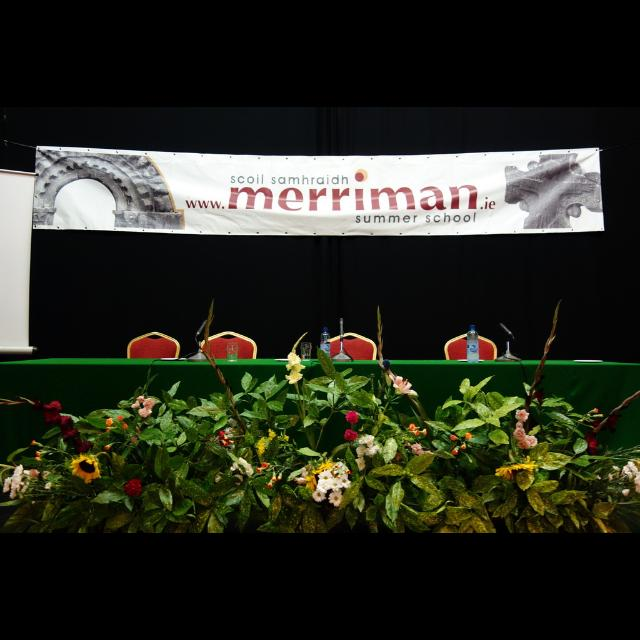Flower: (515, 408, 539, 450), (70, 451, 100, 483), (256, 429, 288, 457), (320, 462, 350, 490), (4, 464, 26, 501), (388, 374, 420, 396), (286, 351, 308, 382), (354, 433, 380, 457), (132, 395, 156, 417), (231, 456, 255, 476), (626, 460, 640, 492), (217, 427, 235, 449), (410, 422, 426, 436), (312, 488, 326, 502), (331, 491, 343, 507)
